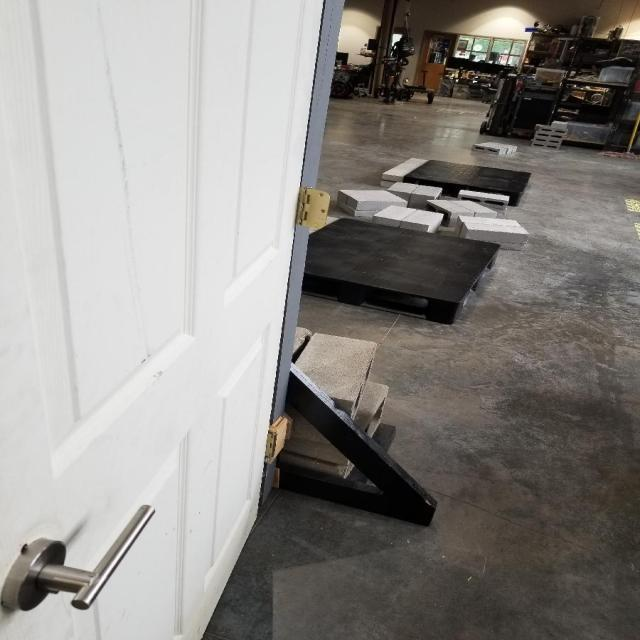door: (1, 494, 158, 620)
